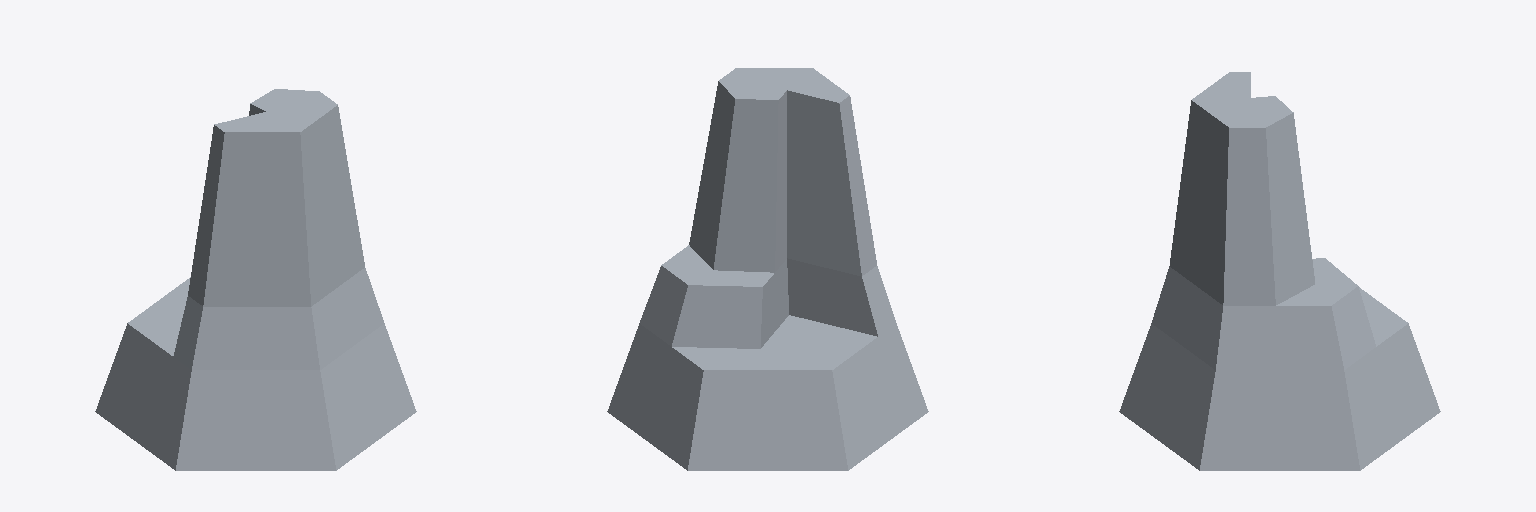
File: Tall_Rock_3_01.obj
The picture shows the model from 3 angles: view 1: azimuth 30°, elevation 25°; view 2: azimuth 150°, elevation 25°; view 3: azimuth 270°, elevation 25°; orthographic projection.
Parts seen in each view (by area): view 1: Mesh1_Tall_Rock_3_Model; view 2: Mesh1_Tall_Rock_3_Model; view 3: Mesh1_Tall_Rock_3_Model.
Part boxes in pixels (bbox=[...]): Mesh1_Tall_Rock_3_Model: bbox=[95, 89, 416, 470]; Mesh1_Tall_Rock_3_Model: bbox=[607, 68, 928, 470]; Mesh1_Tall_Rock_3_Model: bbox=[1119, 72, 1440, 470].
Bounding box in the file's own units: 1.59 × 1.97 × 1.84.